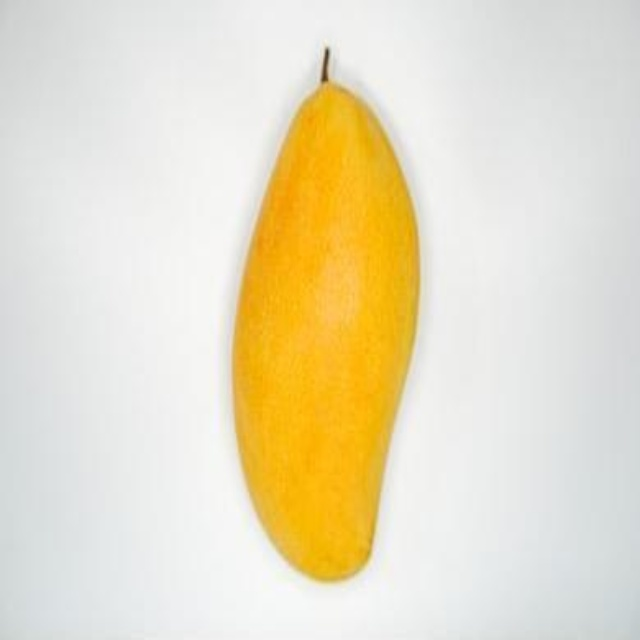mango: (228, 63, 424, 586)
